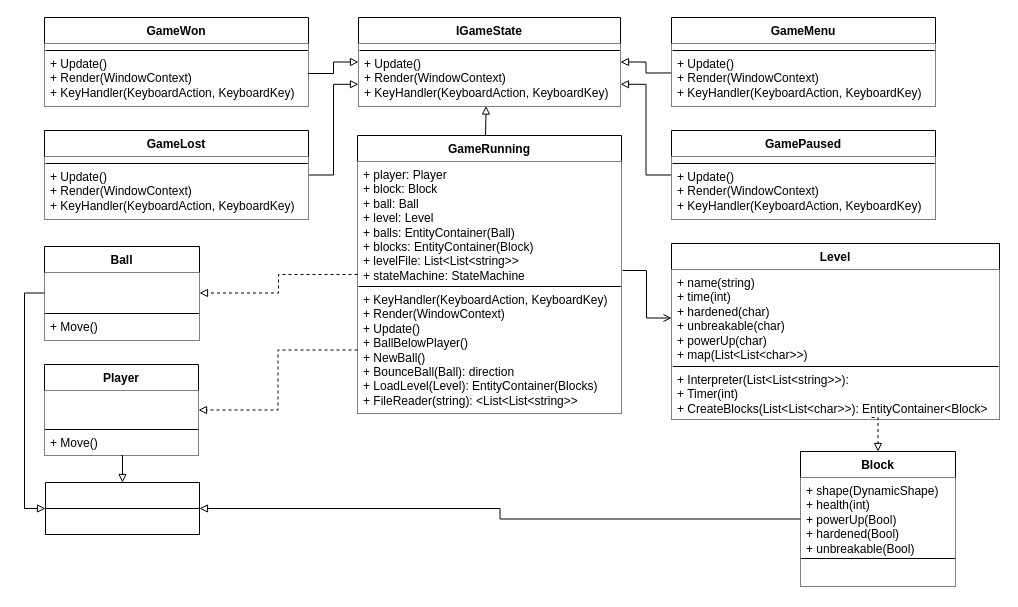
Some shapes in this 1018 by 607 pixel diagram are drawn without their labels. The shapes that lost their labels are listed below. From the top down, each one's centre as x and y in pixels, then its label:
(121,292): + shape(DynamicShape) + directions(Vector2)
(121,409): + shape(DynamicShape) + movementSpeed(float)
(122,508): Entity
(877,572): + Hit()
